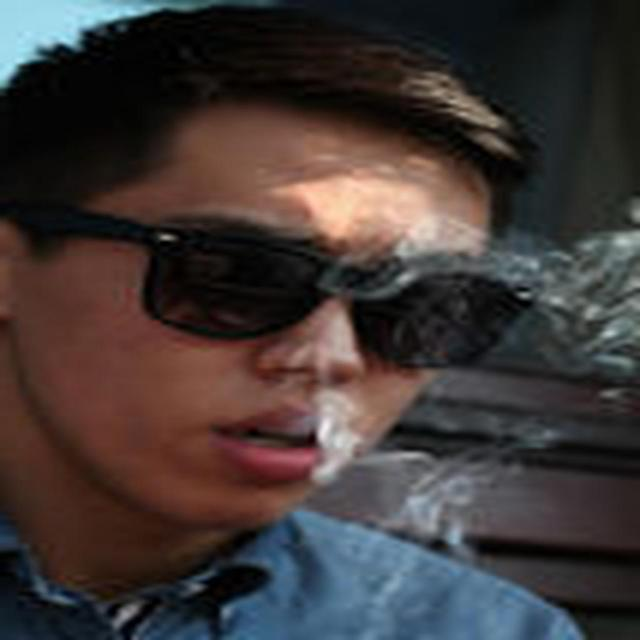smoking: (118, 131, 542, 545)
